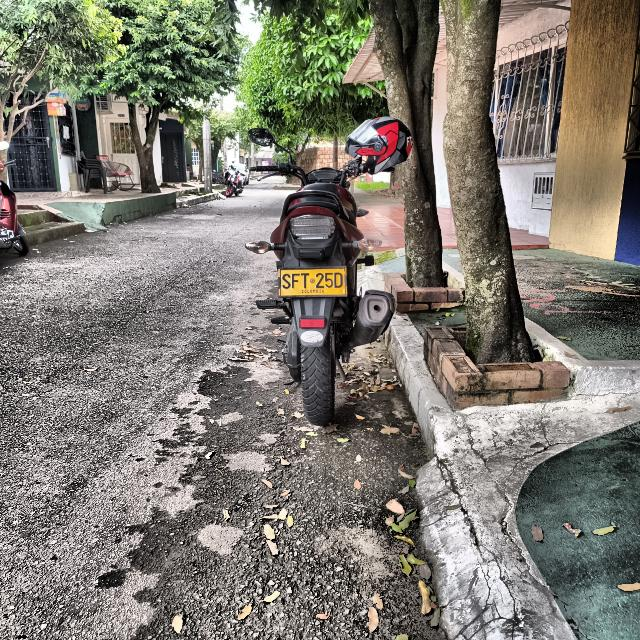plate: (278, 266, 347, 298)
